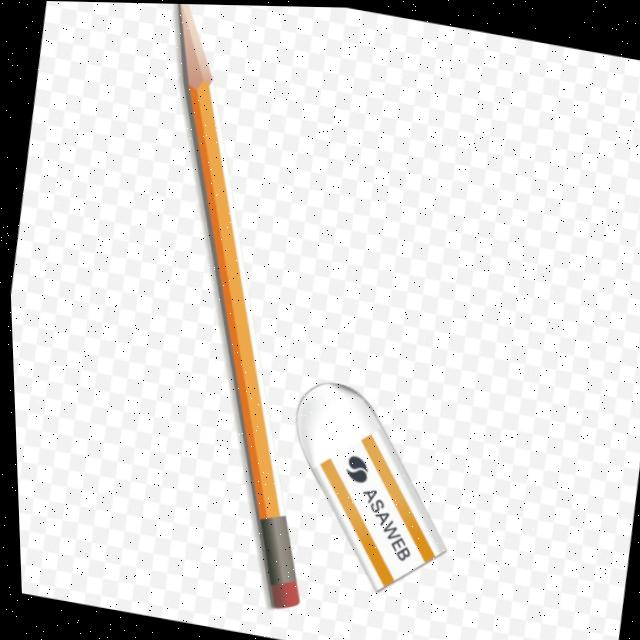pencil: (166, 3, 319, 618)
